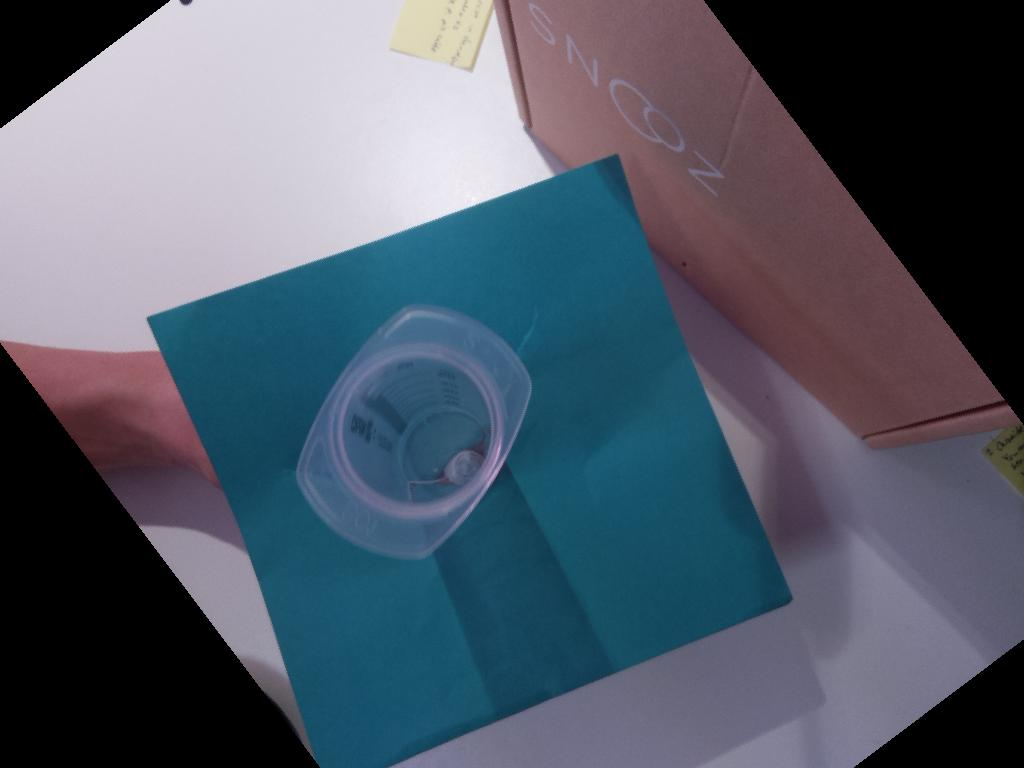clean: (294, 303, 533, 563)
